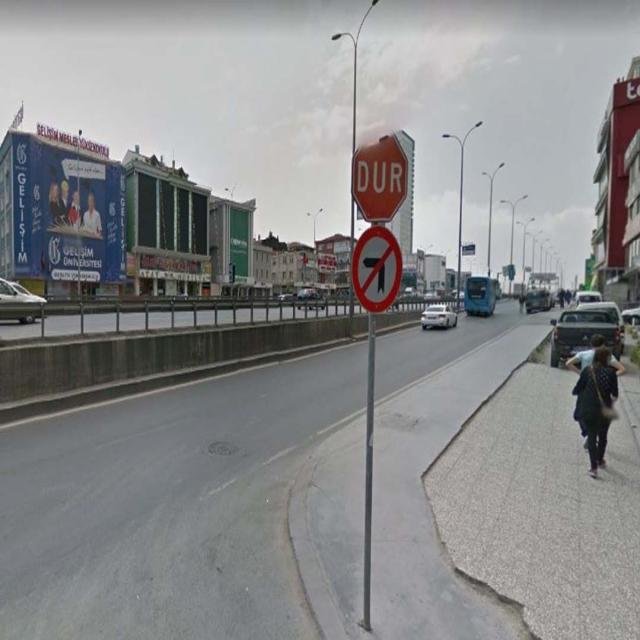dur: (351, 129, 408, 224)
soladonulmez: (351, 227, 403, 313)
